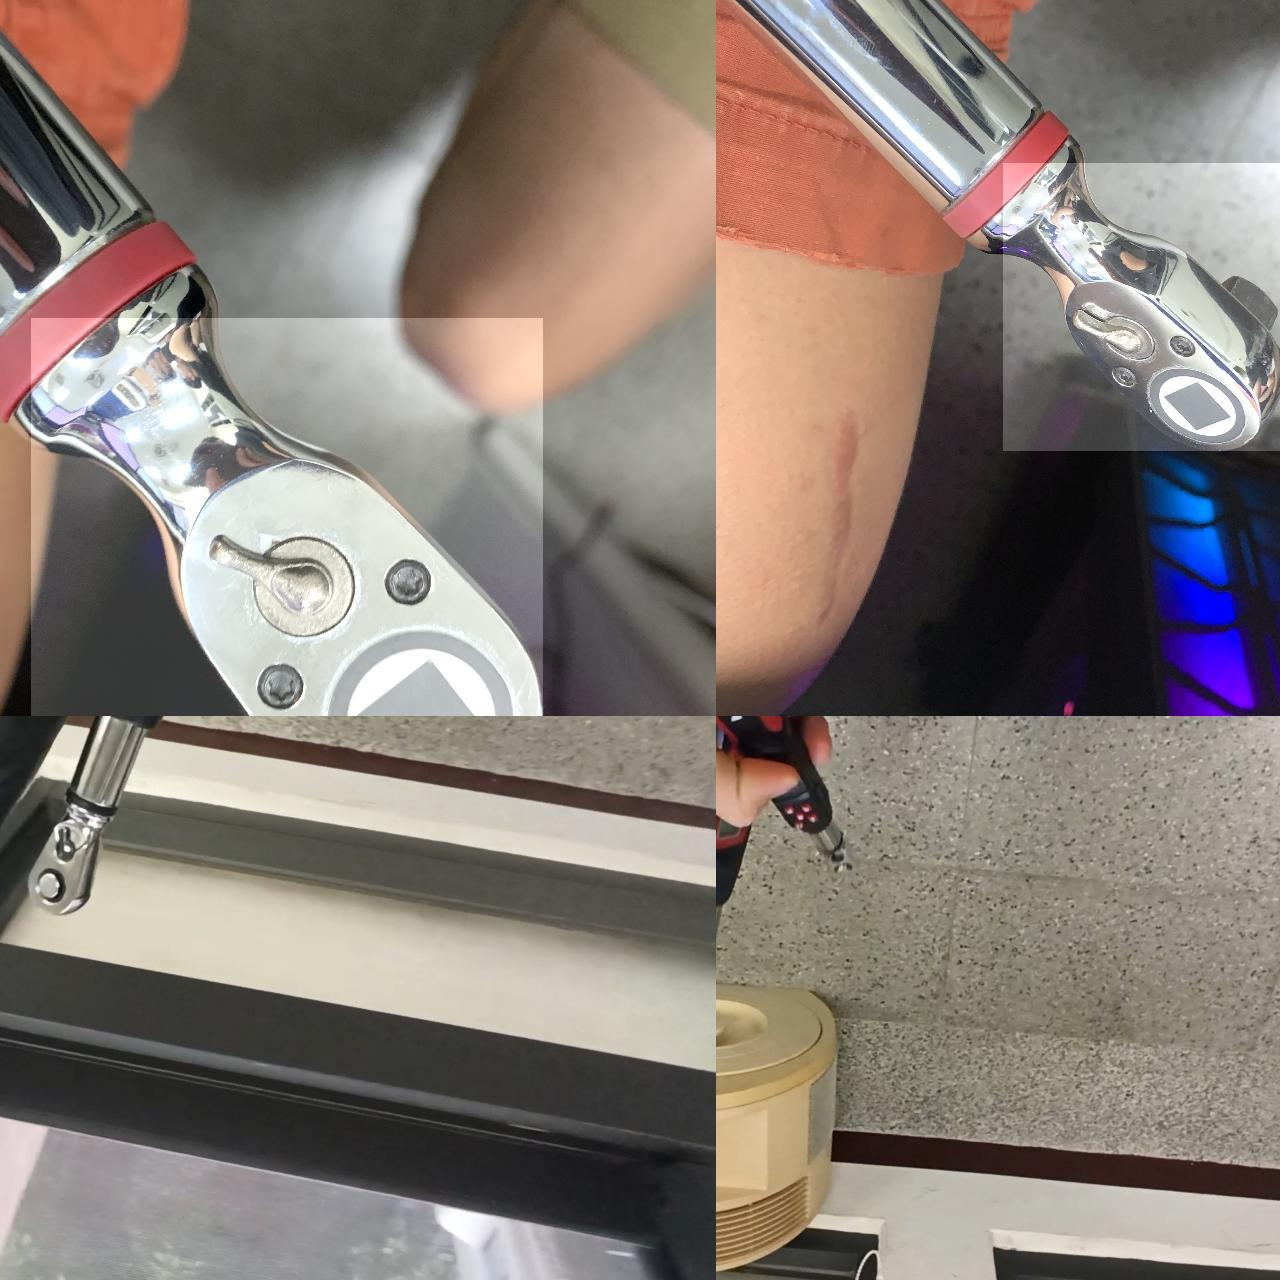Tool: (30, 316, 542, 716), (1002, 162, 1280, 450), (29, 803, 96, 917)
